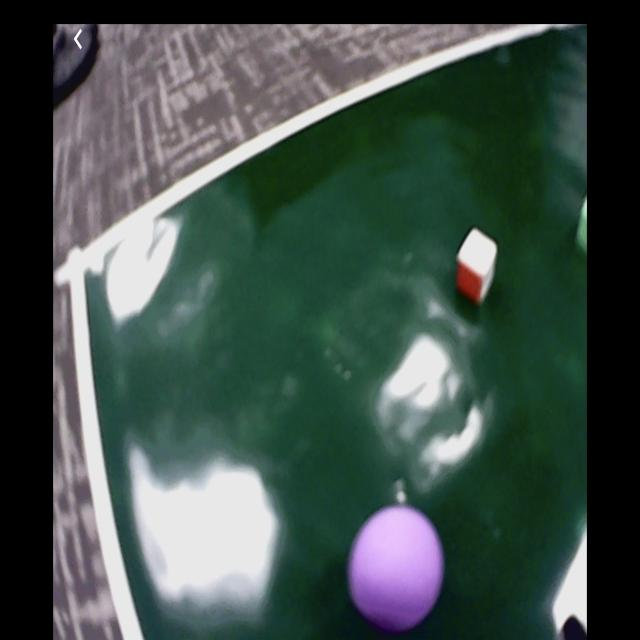ball: (352, 508, 444, 628)
